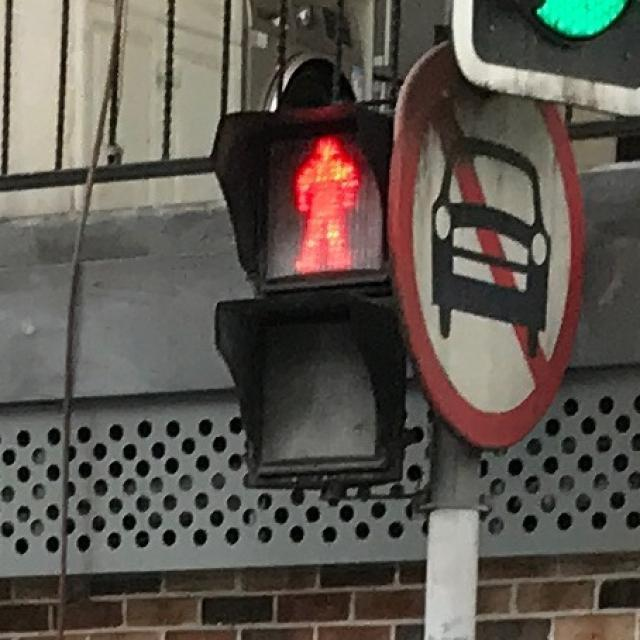red-crossing: (265, 128, 365, 275)
